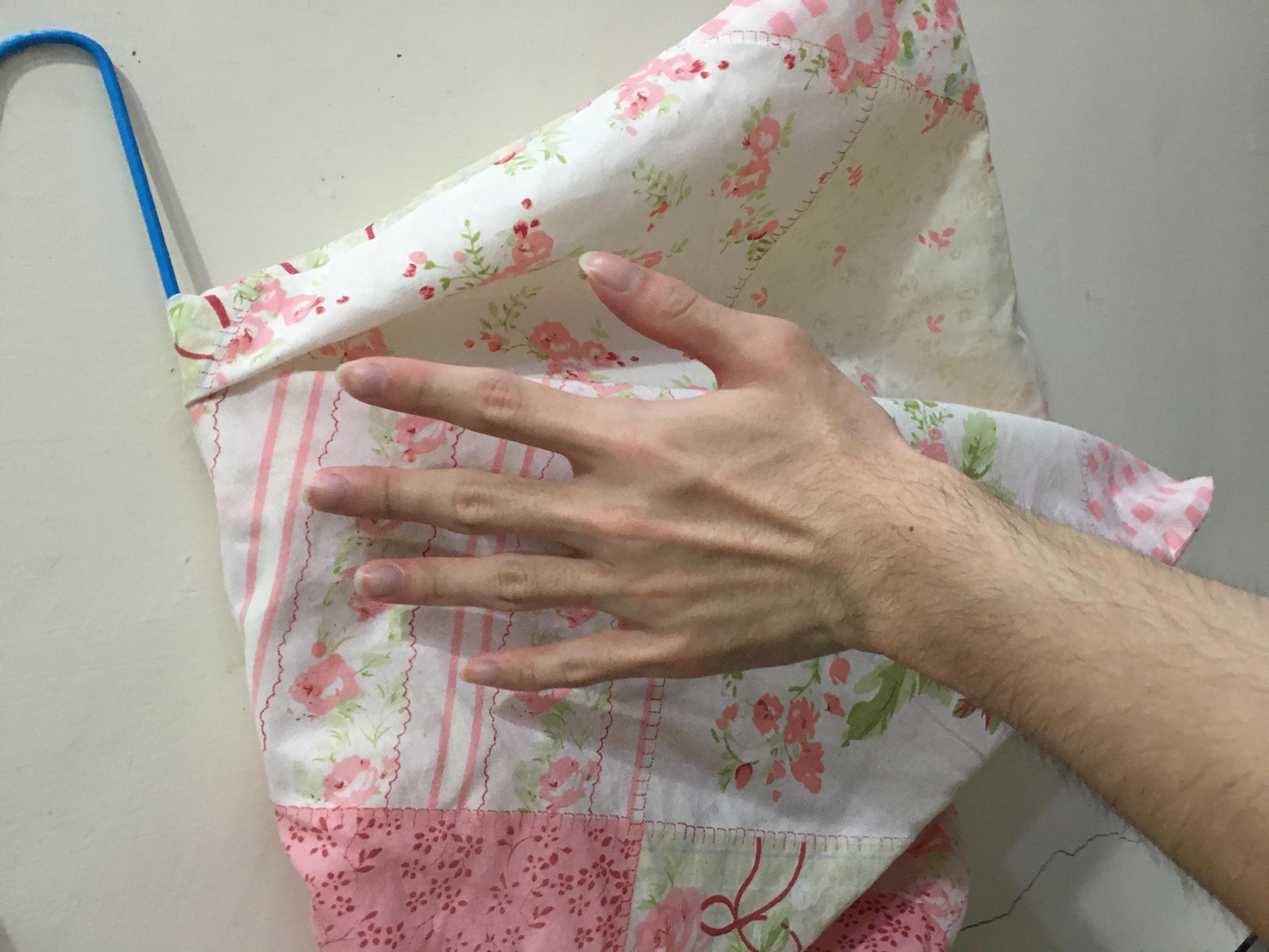palm: (332, 218, 949, 672)
